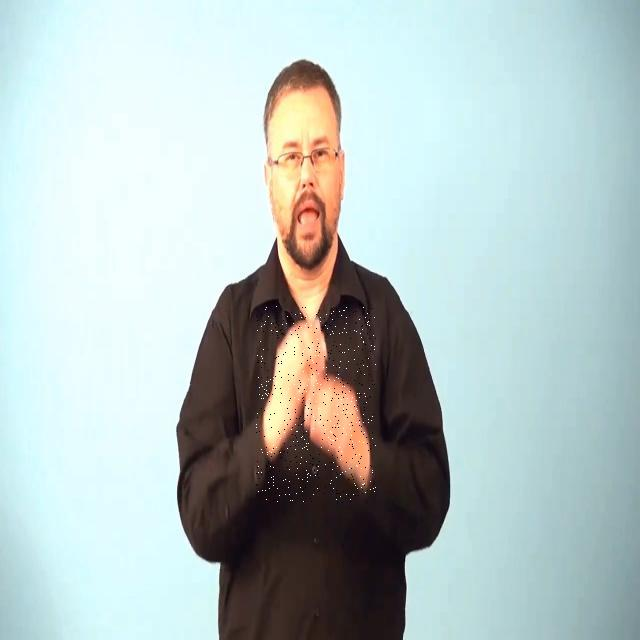juicy: (256, 306, 376, 503)
